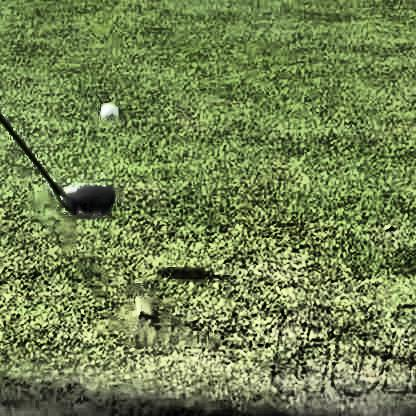golfball: (98, 99, 115, 119)
